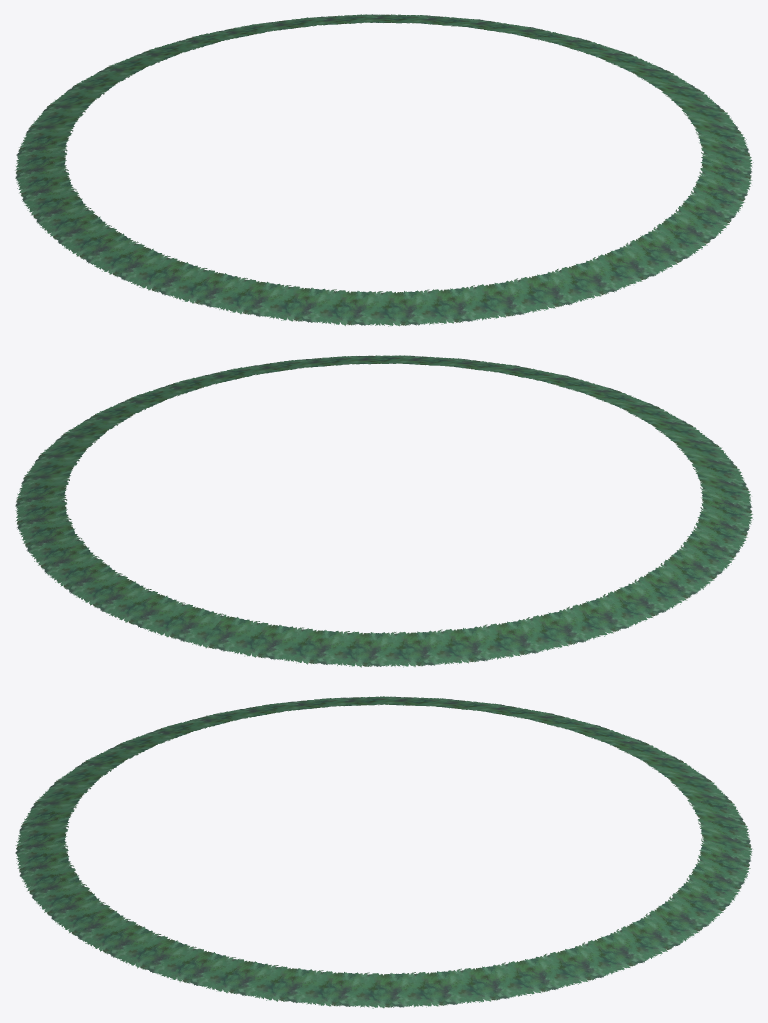
Rendered from grass_mesh_06.fbx.
3 views of the same model, one above another, from view 1: azimuth 30°, elevation 25°; view 2: azimuth 150°, elevation 25°; view 3: azimuth 270°, elevation 25° (orthographic).
Parts seen in each view (by area): view 1: grass_mesh_06; view 2: grass_mesh_06; view 3: grass_mesh_06.
Boxes of the visible parts, x1,y1,x2,y2 form: grass_mesh_06: [15, 14, 753, 326]; grass_mesh_06: [15, 355, 753, 667]; grass_mesh_06: [15, 696, 752, 1008].
Size of the model in its own units: 127 by 2.6 by 127.
